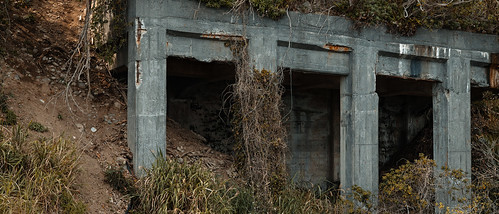collumn: (122, 30, 172, 176), (235, 40, 285, 186), (338, 65, 388, 211), (429, 80, 473, 214)
